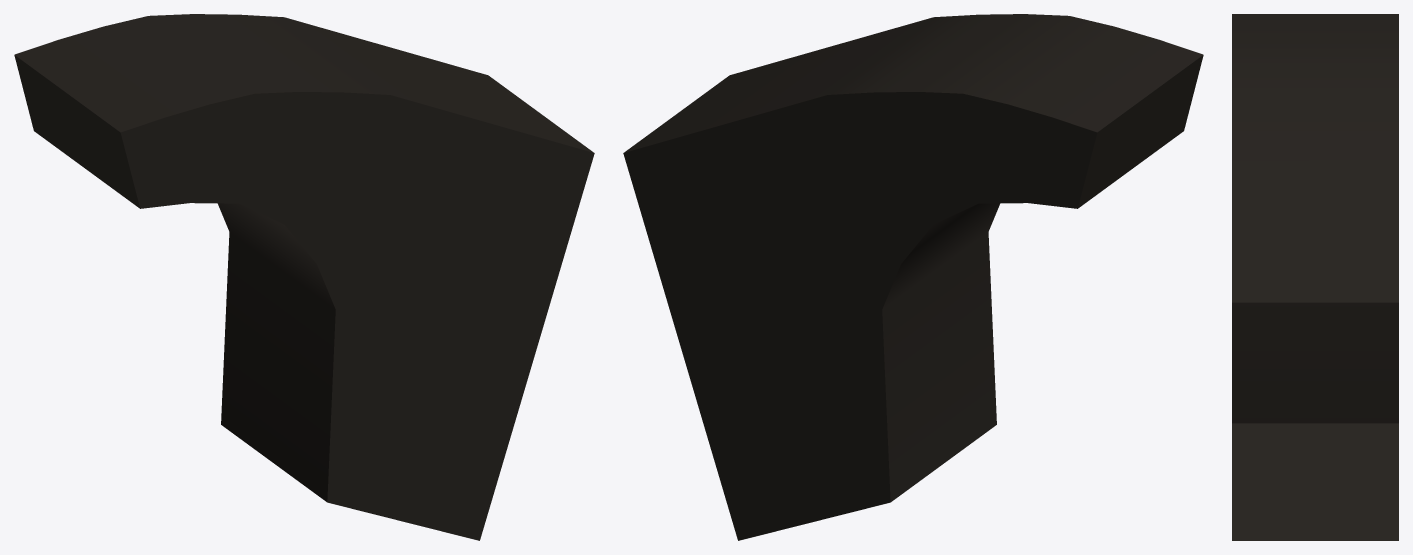
The model's file is Pistol4_Bolt.fbx.
3 views of the same model, side by side, from view 1: azimuth 30°, elevation 25°; view 2: azimuth 150°, elevation 25°; view 3: azimuth 270°, elevation 25° (orthographic). The views are drawn at different scales.
Parts seen in each view (by area): view 1: Pistol4_Bolt; view 2: Pistol4_Bolt; view 3: Pistol4_Bolt.
Boxes of the visible parts, x1,y1,x2,y2 form: Pistol4_Bolt: [14, 14, 594, 540]; Pistol4_Bolt: [623, 14, 1203, 540]; Pistol4_Bolt: [1232, 14, 1398, 540].
Size of the model in its own units: 3.92 by 3.97 by 1.52.
